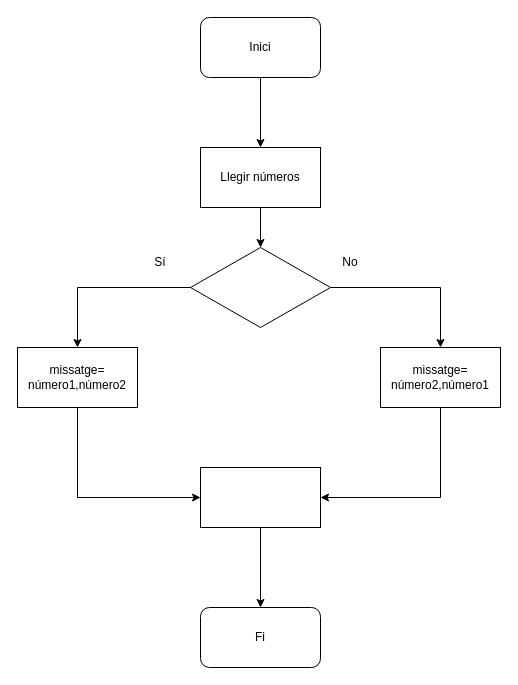
This 518x685 diagram has some shape labels left out. The centre of each missing label's shape, as x and y in pixels:
"mostrar missatge" goes at point (260, 497).
"número1<número2?" goes at point (260, 287).
